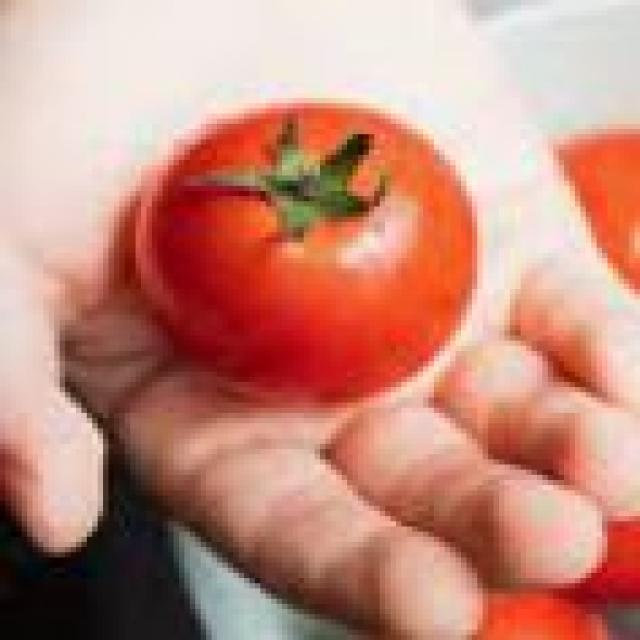Healthy: (124, 83, 495, 393)
